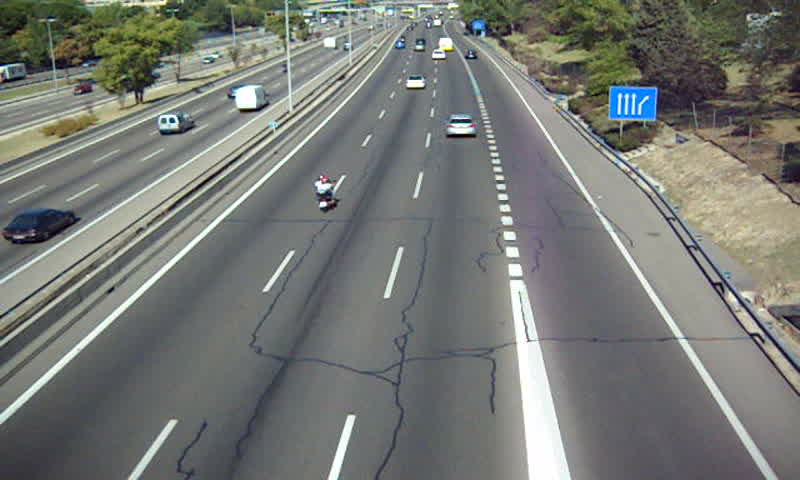car: (445, 113, 476, 139), (405, 74, 425, 89)
motorcycle: (314, 174, 336, 209)
